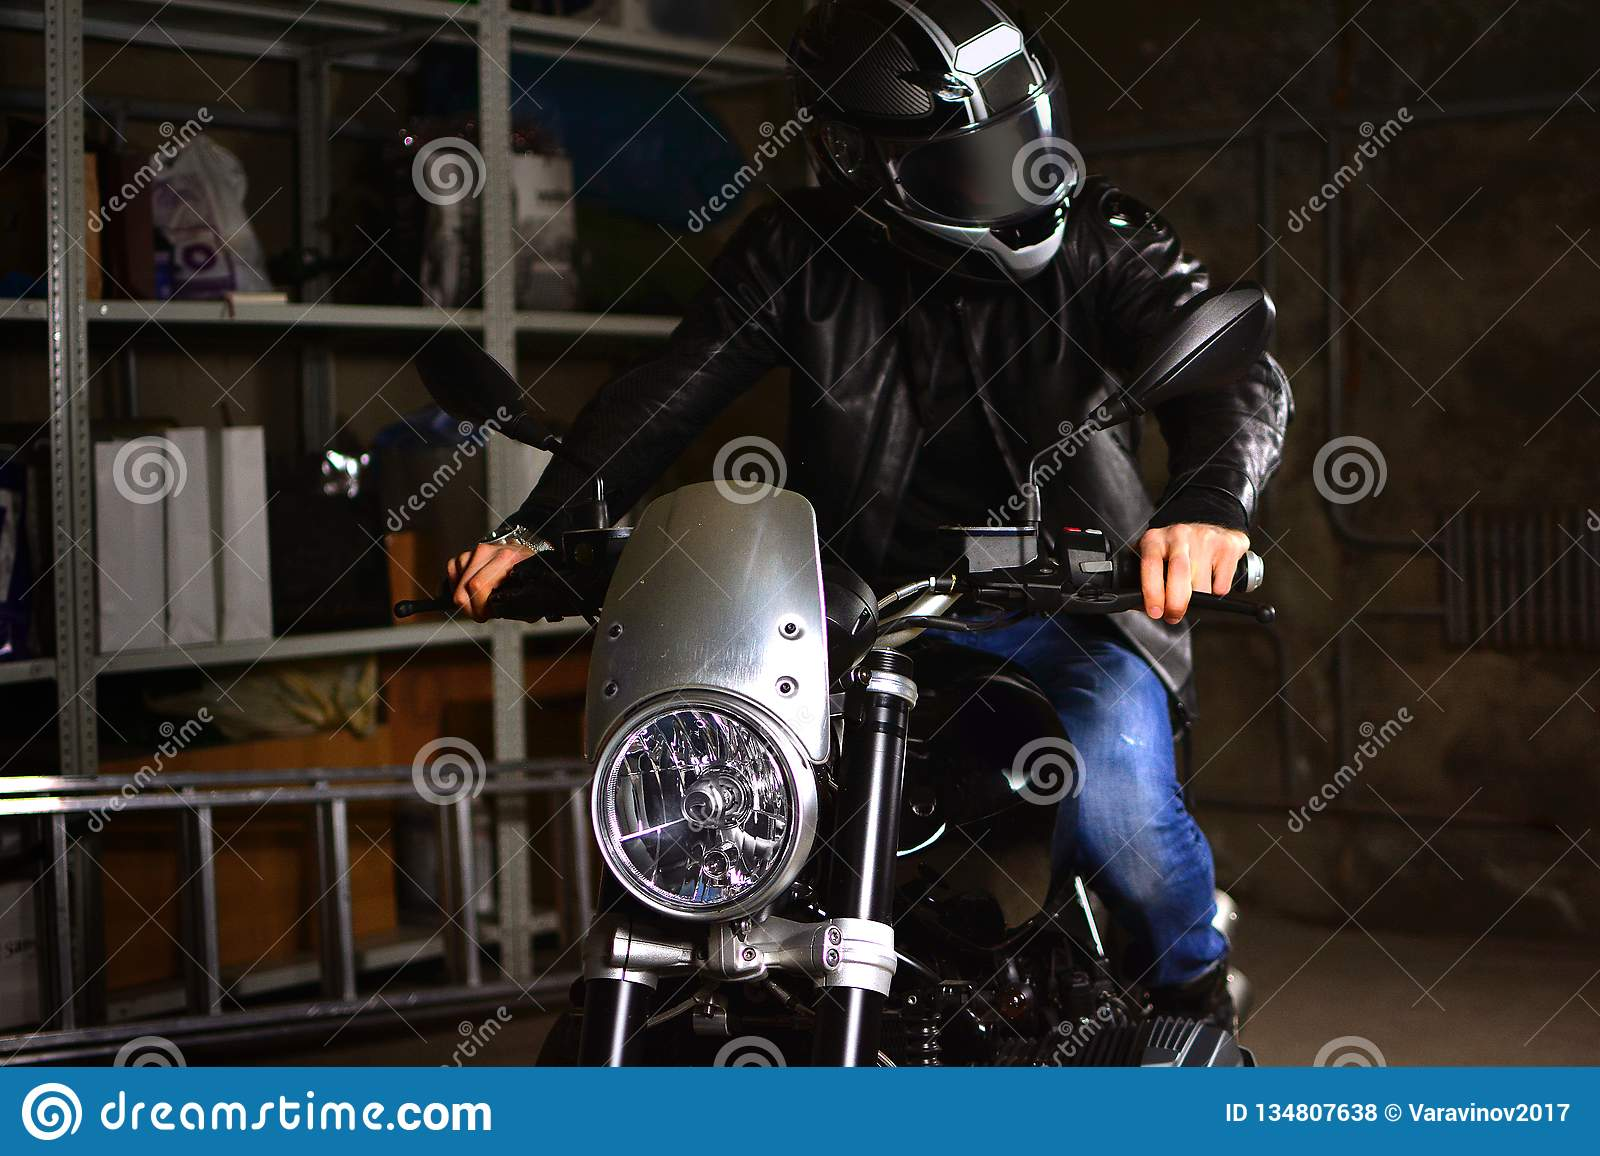helmet: (793, 2, 1084, 287)
